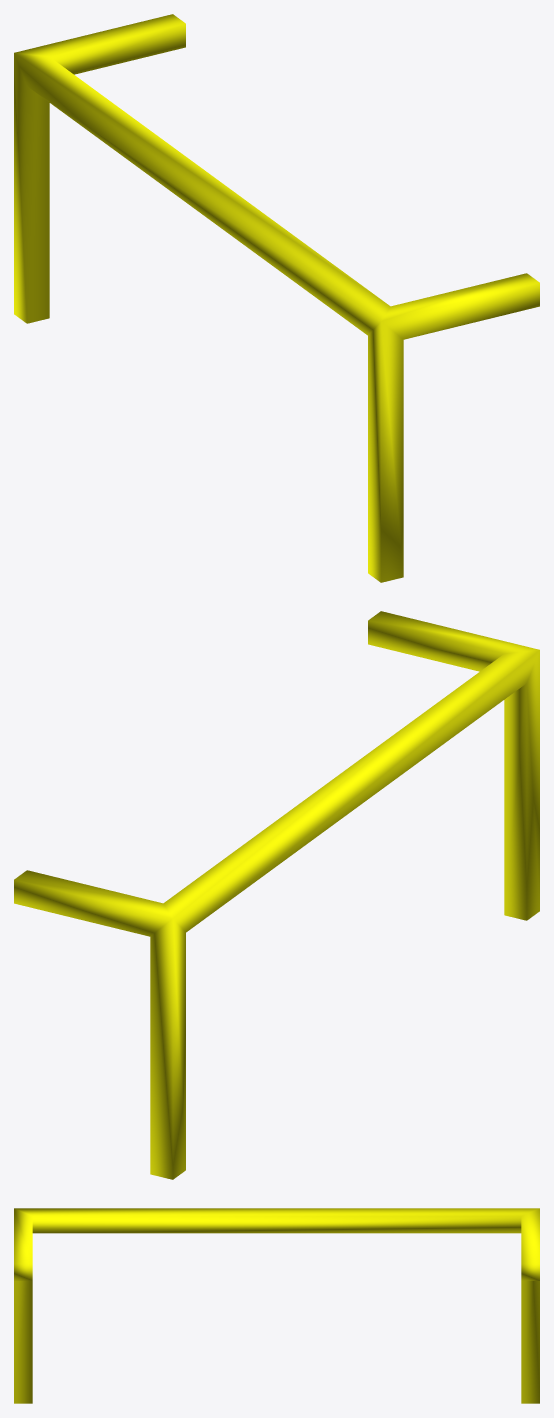
The model's file is Goalsallyback.001.dae.
3 views of the same model, one above another, from view 1: azimuth 30°, elevation 25°; view 2: azimuth 150°, elevation 25°; view 3: azimuth 270°, elevation 25° (orthographic). The views are drawn at different scales.
Visible parts, largest first — view 1: visual_0_field_1_6; view 2: visual_0_field_1_6; view 3: visual_0_field_1_6.
Boxes of the visible parts, <box> form: visual_0_field_1_6: <box>14,14,539,582</box>; visual_0_field_1_6: <box>14,611,539,1179</box>; visual_0_field_1_6: <box>14,1208,539,1403</box>.
Size of the model in its own units: 0.7 by 2.8 by 1.1.
